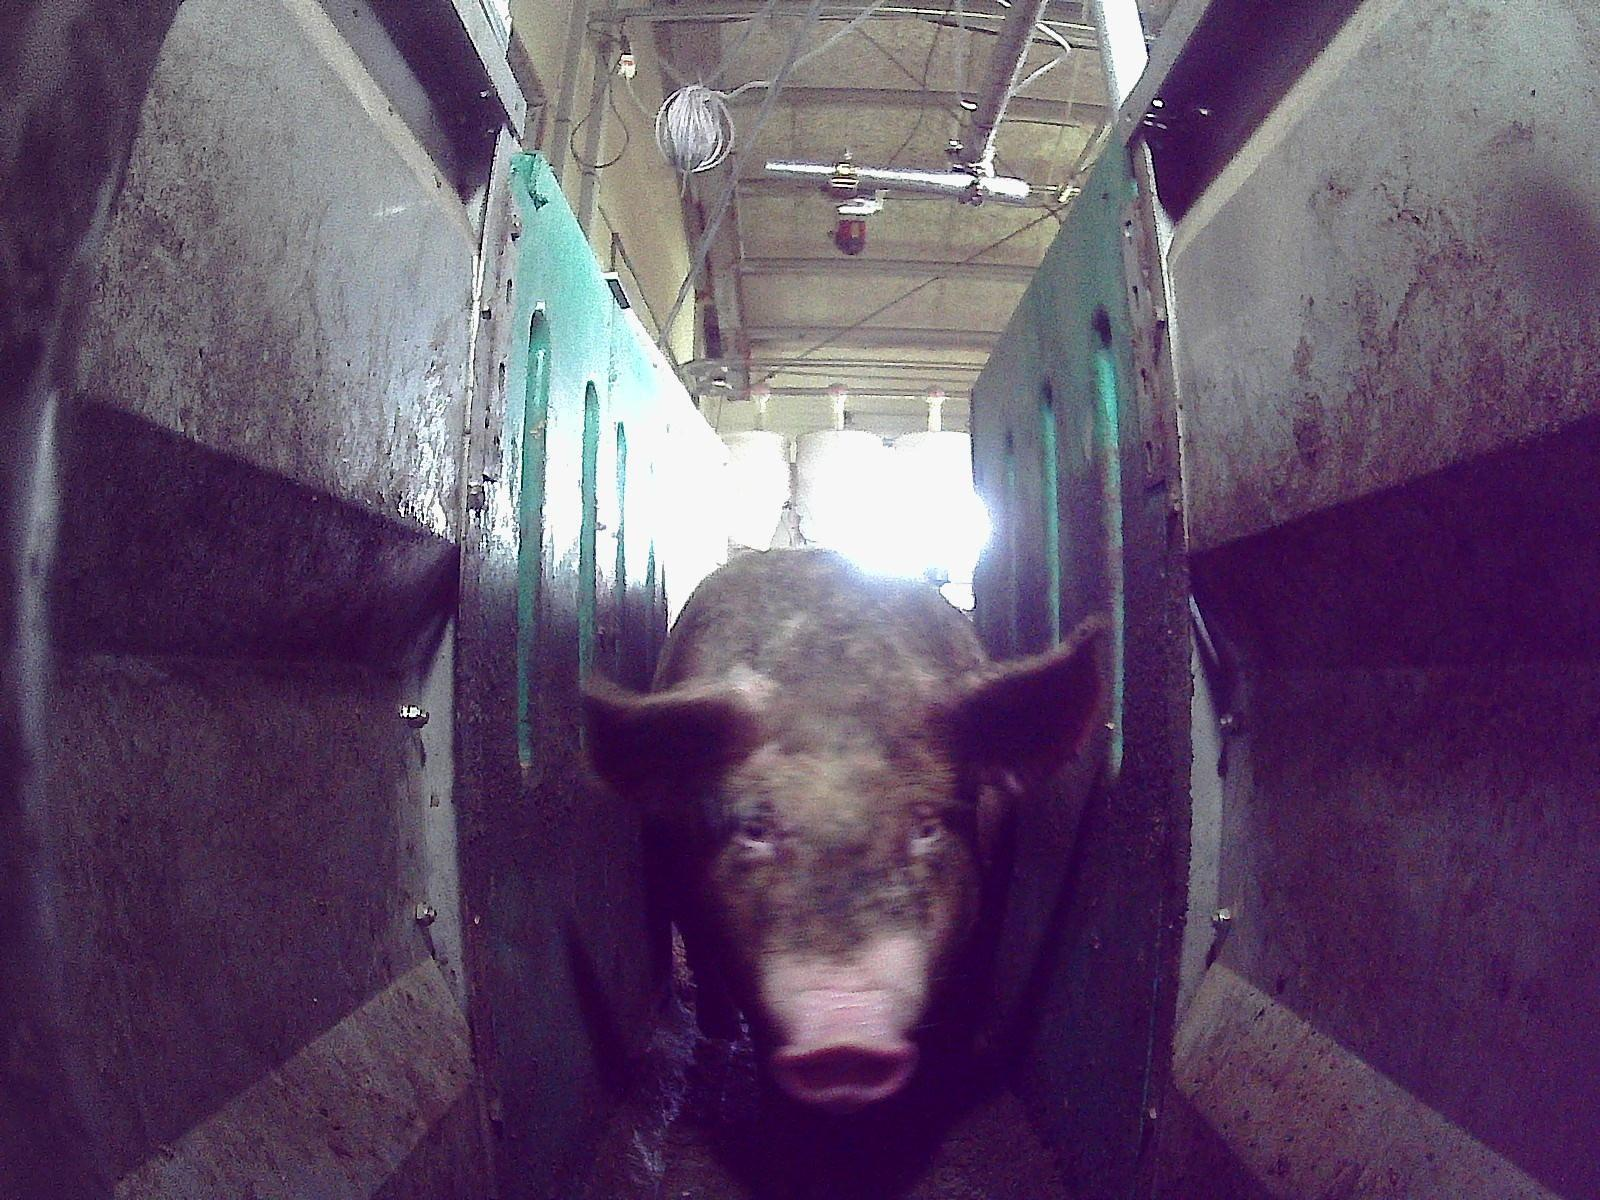Face: (694, 696, 971, 1111)
